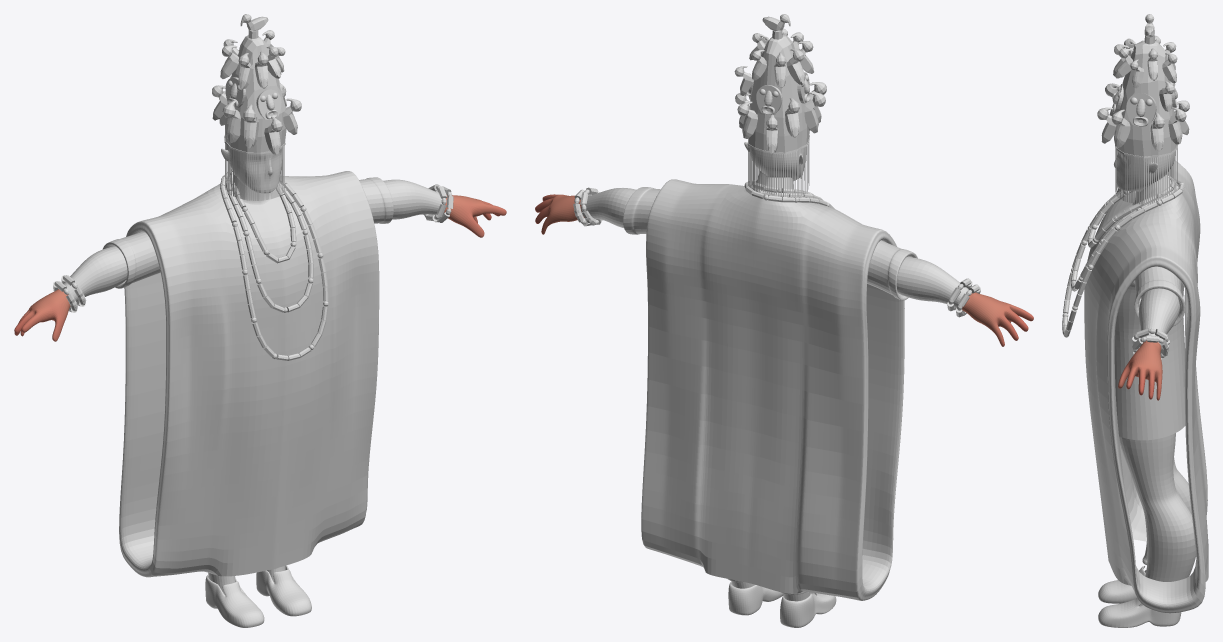
Rendered from King_Test_01.fbx.
The picture shows the model from 3 angles, left to right: view 1: azimuth 30°, elevation 25°; view 2: azimuth 150°, elevation 25°; view 3: azimuth 270°, elevation 25°; orthographic projection.
Parts seen in each view (by area): view 1: Clothes_Pants; view 2: Clothes_Pants; view 3: Clothes_Pants.
Boxes of the visible parts, x1,y1,x2,y2 form: Clothes_Pants: (14,14,506,627); Clothes_Pants: (535,14,1033,627); Clothes_Pants: (1062,14,1208,627).
Bounding box in the file's own units: 1449 × 1681 × 377.
